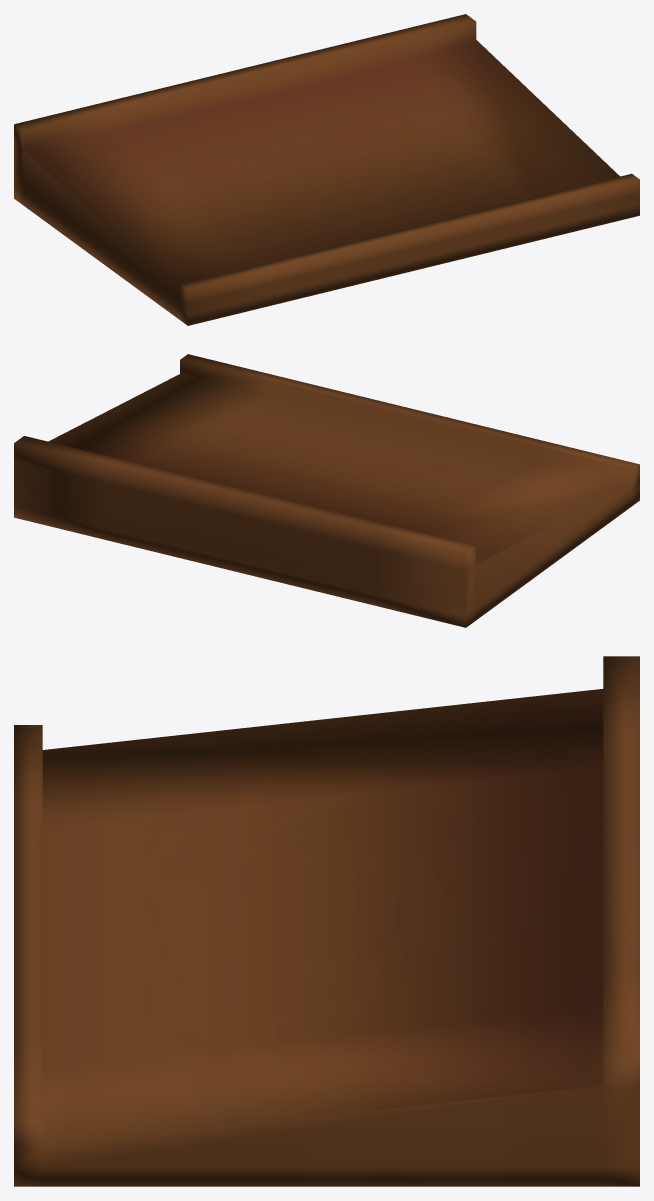
Rendered from BOOKCASE.fbx.
3 renders of one model, top to bottom at view 1: azimuth 30°, elevation 25°; view 2: azimuth 150°, elevation 25°; view 3: azimuth 270°, elevation 25°, orthographic. The views are drawn at different scales.
Visible parts, largest first — view 1: Box002_1; view 2: Box002_1; view 3: Box002_1.
Part boxes in pixels (x1=…): Box002_1: x1=14, y1=14, x2=639, y2=325; Box002_1: x1=14, y1=354, x2=639, y2=627; Box002_1: x1=14, y1=656, x2=639, y2=1186.
Size of the model in its own units: 18 by 2.83 by 12.
1 material, 1 textured.
